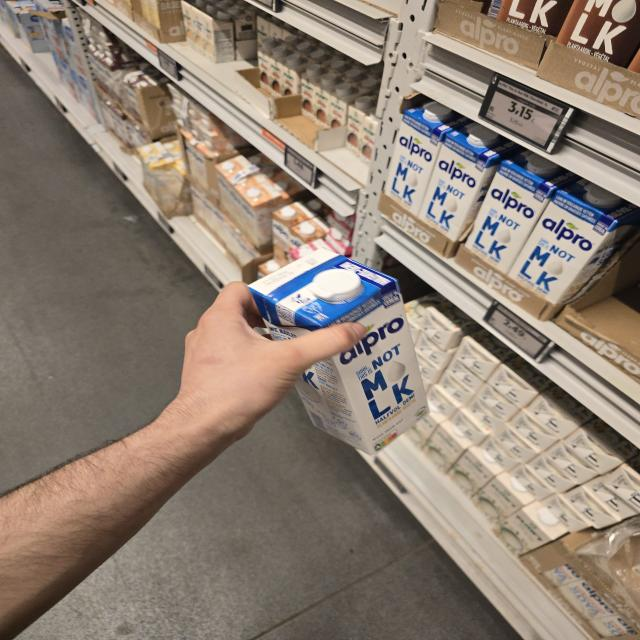Milk: (248, 246, 430, 456), (507, 177, 640, 305), (464, 149, 582, 274), (418, 121, 525, 241), (383, 99, 473, 217)
